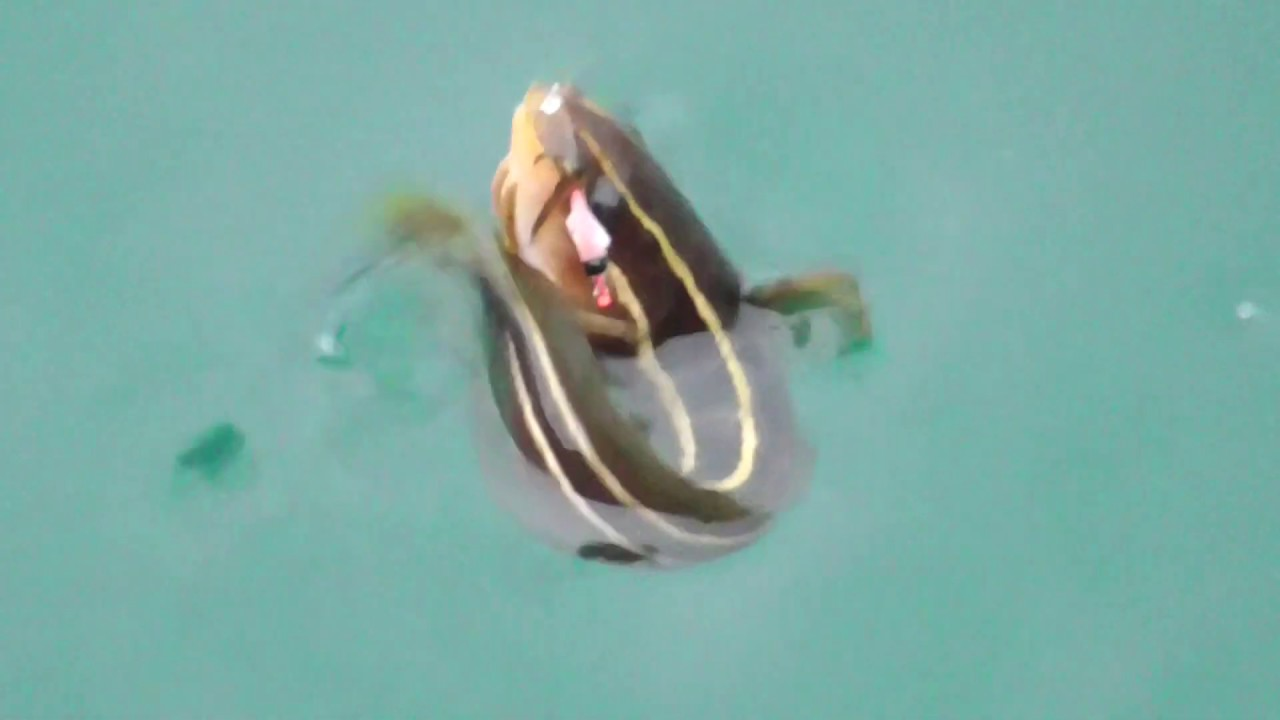gonzui: (314, 66, 877, 608)
